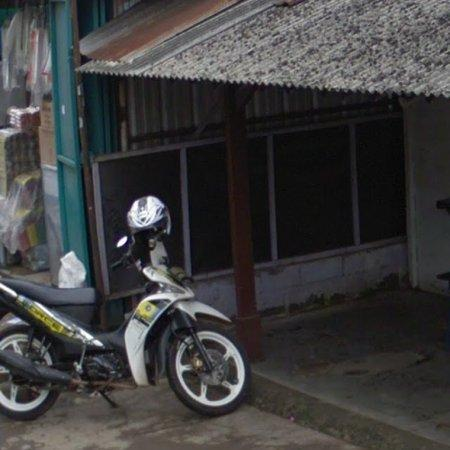motorcycles: (0, 198, 250, 420)
